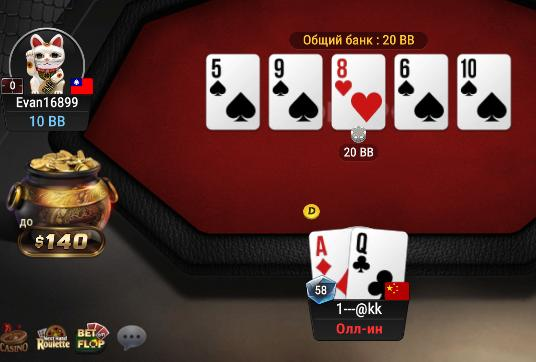10s: (458, 55, 510, 130)
5s: (206, 55, 260, 127)
6s: (396, 55, 447, 128)
8h: (332, 55, 383, 130)
9s: (270, 55, 322, 129)
Ad: (308, 228, 350, 299)
Qc: (349, 225, 407, 300)
